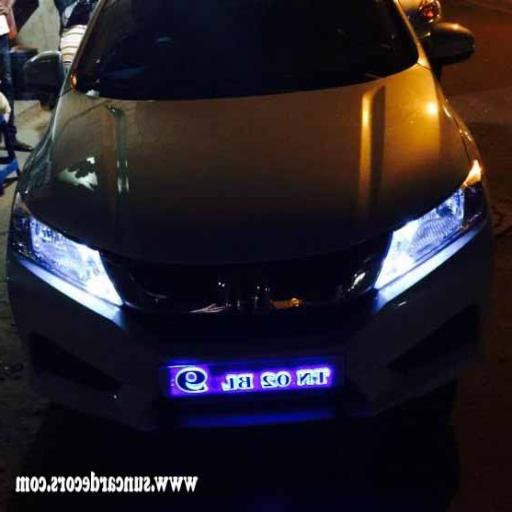License: (165, 344, 337, 406)
